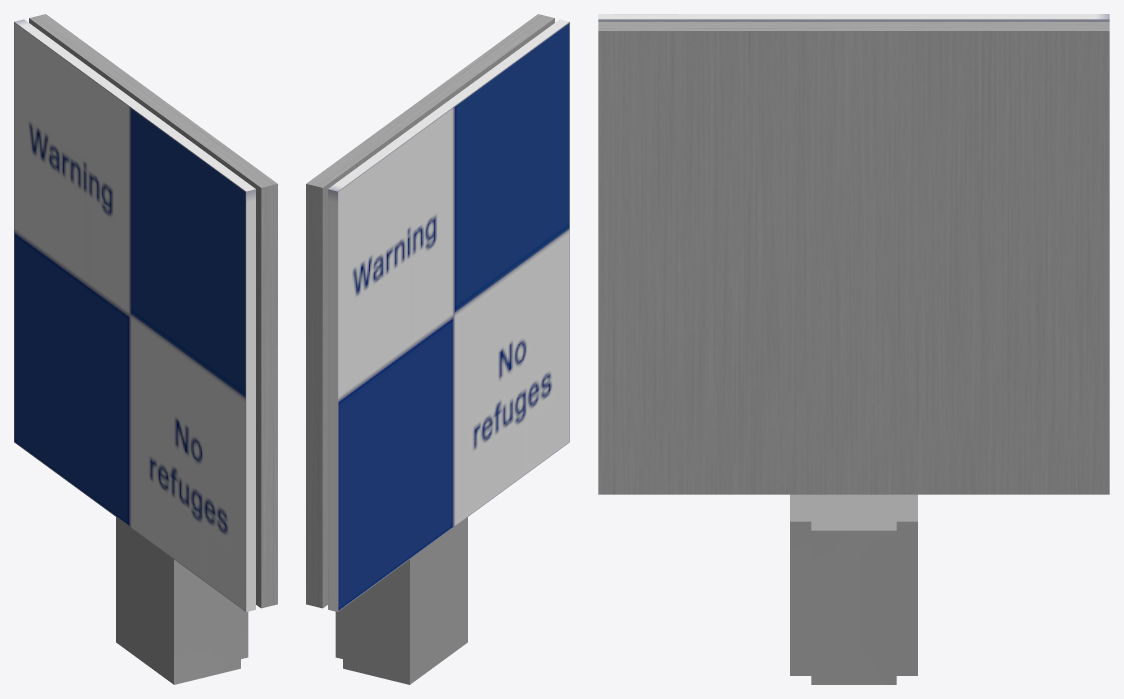
Rendered from no_refuges_small.obj.
The picture shows the model from 3 angles, left to right: view 1: azimuth 30°, elevation 25°; view 2: azimuth 150°, elevation 25°; view 3: azimuth 270°, elevation 25°; orthographic projection. The views are drawn at different scales.
Parts seen in each view (by area): view 1: cube; view 2: cube; view 3: cube.
Boxes of the visible parts, box(x1,y1,x2,y2) form: cube: box(14, 14, 277, 684); cube: box(306, 14, 569, 684); cube: box(598, 14, 1109, 684).
Bounding box in the file's own units: 0.0922 × 0.5 × 0.375.
Materials: 2 (2 with a texture image).
